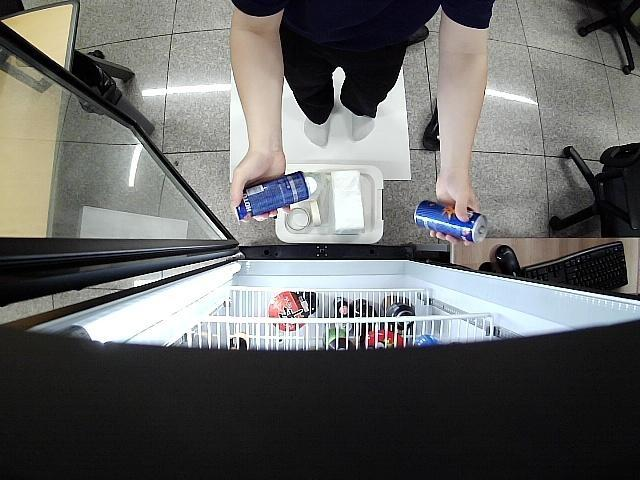16_hot6: (237, 170, 311, 220), (414, 198, 488, 246)
